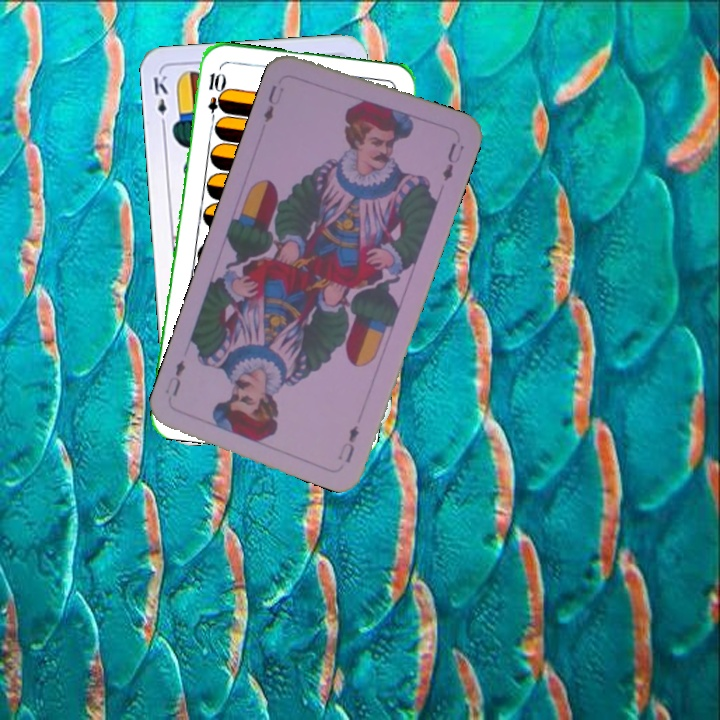E10: (204, 69, 226, 126)
EK: (149, 71, 171, 131)
EU: (333, 421, 362, 466), (259, 81, 287, 125)
